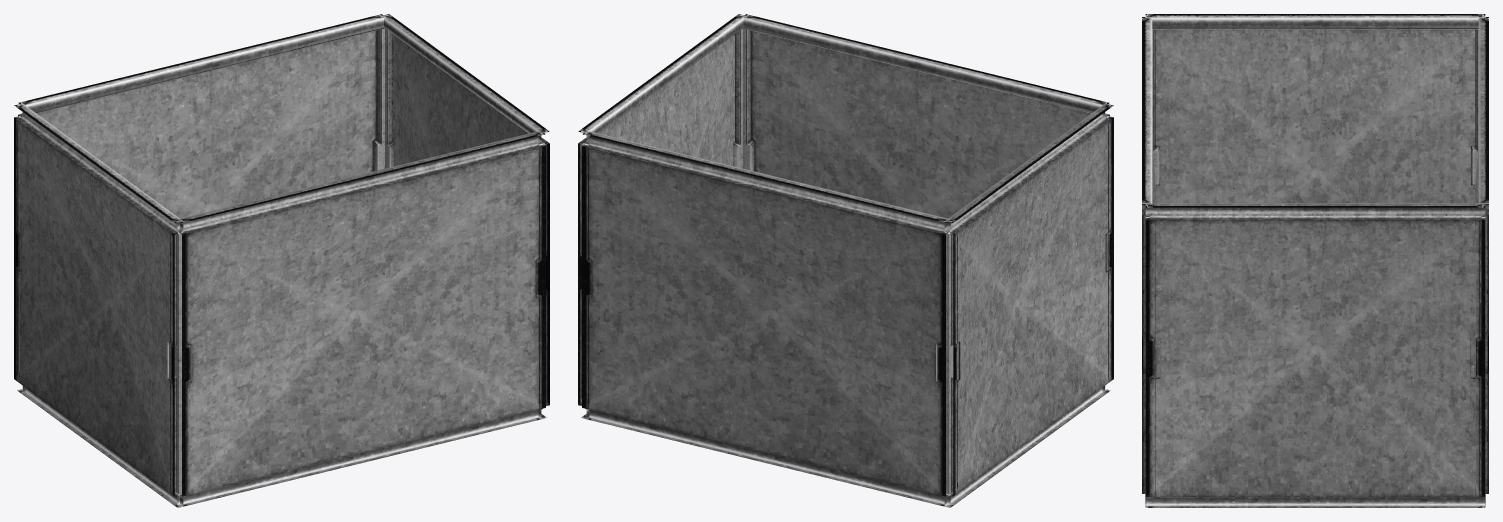
File: vent_shaft_straight_vertical.dae
The picture shows the model from 3 angles, left to right: view 1: azimuth 30°, elevation 25°; view 2: azimuth 150°, elevation 25°; view 3: azimuth 270°, elevation 25°; orthographic projection. The views are drawn at different scales.
Parts seen in each view (by area): view 1: straight_vertical; view 2: straight_vertical; view 3: straight_vertical.
Boxes of the visible parts, <box> form: straight_vertical: <box>14,14,549,507</box>; straight_vertical: <box>578,14,1113,507</box>; straight_vertical: <box>1142,14,1488,507</box>.
Bounding box in the file's own units: 2.06 × 1.5 × 1.56.
